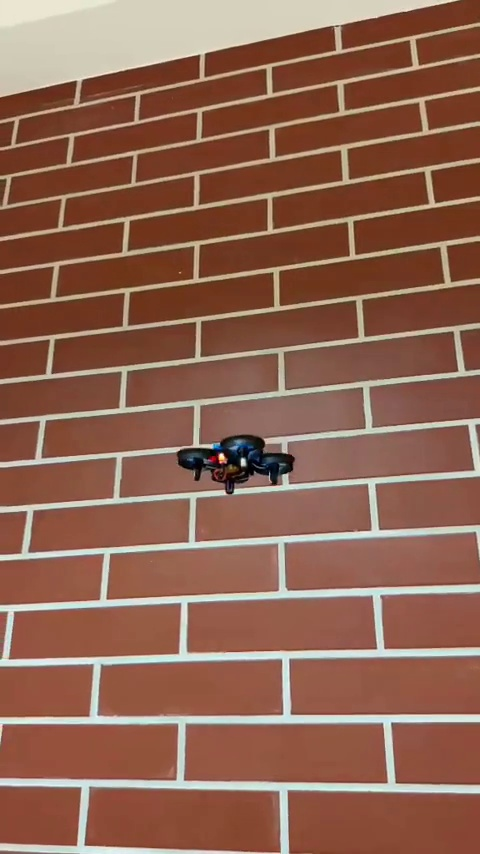drone: (177, 435, 291, 503)
